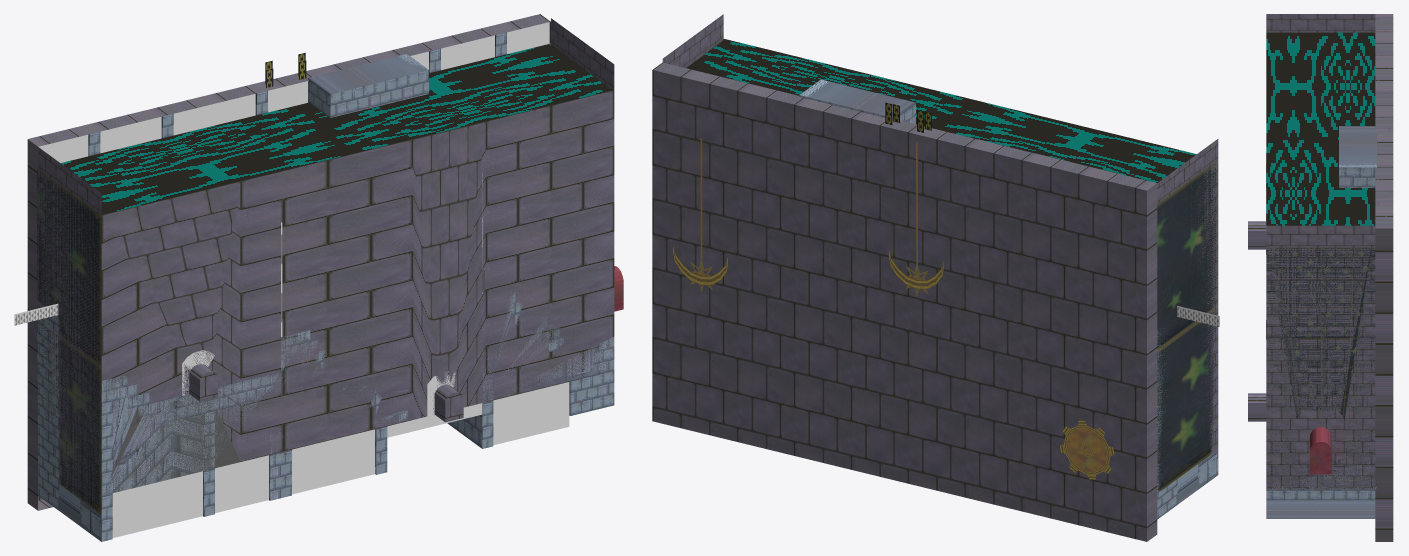
File: las_20.dae
3 views of the same model, side by side, from view 1: azimuth 30°, elevation 25°; view 2: azimuth 150°, elevation 25°; view 3: azimuth 270°, elevation 25° (orthographic). The views are drawn at different scales.
Visible parts, largest first — view 1: polySurface366_q00004_part2, polySurface1_q00002, polySurface1_q00081, polySurface1_q00003, polySurface109_q00080, polySurface100_q00079_part1, polySurface100_q00023_part2, polySurface110_q00078, polySurface104_q00076, polySurface366_q00004_part0, polySurface99_q00085_part0, polySurface99_q00084_part1 (+9 smaller); view 2: polySurface109_q00080, polySurface1_q00003, polySurface1_q00002, polySurface1_q00081, polySurface99_q00085_part0, polySurface376, S_hgm_16b_part0, polySurface100_q00079_part1, polySurface97_q00082_part1, S_hgm_16b_part1, S_hgm_22b_part1, S_hgm_21b_part1 (+1 smaller); view 3: polySurface376, polySurface1_q00002, polySurface1_q00021, polySurface109_q00080, polySurface99_q00084_part1, polySurface1_q00081, polySurface99_q00085_part0, polySurface99_q00026, polySurface366_q00004_part2, S_r_bero_02_part1, polySurface99_q00027_part1.
Part boxes in pixels (left/top/right/bottom): polySurface366_q00004_part2: left=101, top=90, right=614, bottom=494; polySurface1_q00002: left=61, top=44, right=611, bottom=214; polySurface1_q00081: left=38, top=147, right=101, bottom=513; polySurface1_q00003: left=37, top=168, right=101, bottom=514; polySurface109_q00080: left=27, top=14, right=550, bottom=510; polySurface100_q00079_part1: left=59, top=369, right=291, bottom=541; polySurface100_q00023_part2: left=101, top=369, right=291, bottom=495; polySurface110_q00078: left=38, top=22, right=549, bottom=162; polySurface104_q00076: left=112, top=455, right=268, bottom=537; polySurface366_q00004_part0: left=106, top=395, right=240, bottom=494; polySurface99_q00085_part0: left=308, top=54, right=428, bottom=117; polySurface99_q00084_part1: left=447, top=292, right=614, bottom=448; polySurface109_q00080: left=652, top=62, right=1157, bottom=541; polySurface1_q00003: left=1156, top=160, right=1218, bottom=492; polySurface1_q00002: left=686, top=39, right=1196, bottom=182; polySurface1_q00081: left=1157, top=139, right=1218, bottom=454; polySurface99_q00085_part0: left=799, top=79, right=915, bottom=124; polySurface376: left=662, top=14, right=723, bottom=67; S_hgm_16b_part0: left=1067, top=428, right=1107, bottom=471; polySurface100_q00079_part1: left=1177, top=449, right=1218, bottom=504; polySurface97_q00082_part1: left=1156, top=328, right=1177, bottom=519; S_hgm_16b_part1: left=1059, top=420, right=1114, bottom=479; S_hgm_22b_part1: left=888, top=249, right=943, bottom=296; S_hgm_21b_part1: left=673, top=245, right=728, bottom=292; polySurface376: left=1266, top=225, right=1375, bottom=489; polySurface1_q00002: left=1266, top=32, right=1375, bottom=225; polySurface1_q00021: left=1266, top=247, right=1375, bottom=489; polySurface109_q00080: left=1375, top=14, right=1393, bottom=541; polySurface99_q00084_part1: left=1266, top=489, right=1375, bottom=518; polySurface1_q00081: left=1266, top=14, right=1375, bottom=32; polySurface99_q00085_part0: left=1339, top=126, right=1376, bottom=187; polySurface99_q00026: left=1339, top=126, right=1376, bottom=187; polySurface366_q00004_part2: left=1248, top=221, right=1266, bottom=421; S_r_bero_02_part1: left=1309, top=427, right=1331, bottom=474; polySurface99_q00027_part1: left=1272, top=460, right=1376, bottom=489.
Size of what is drawn, in the model's own units: 162 by 101 by 40.4.
